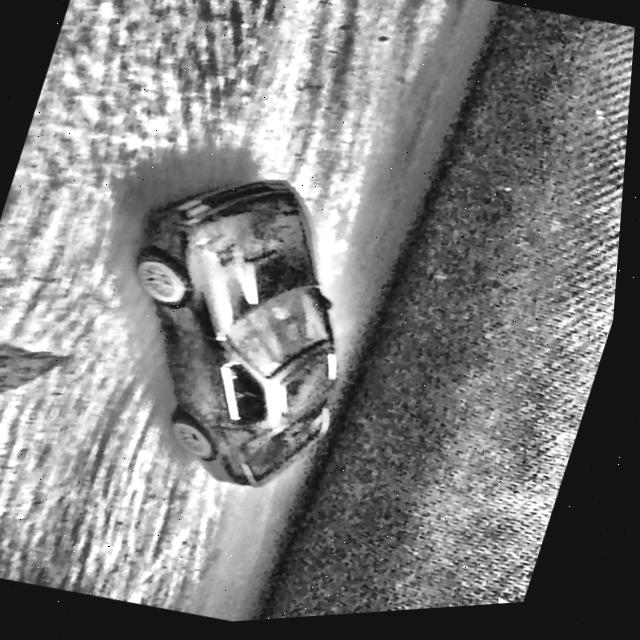car: (75, 148, 408, 515)
